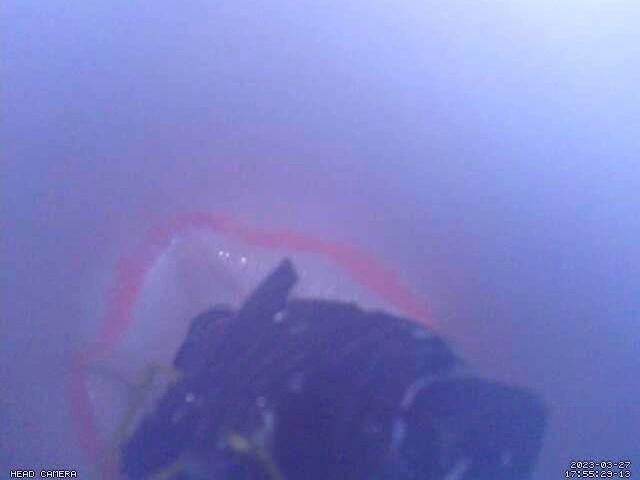head: (65, 209, 444, 480)
